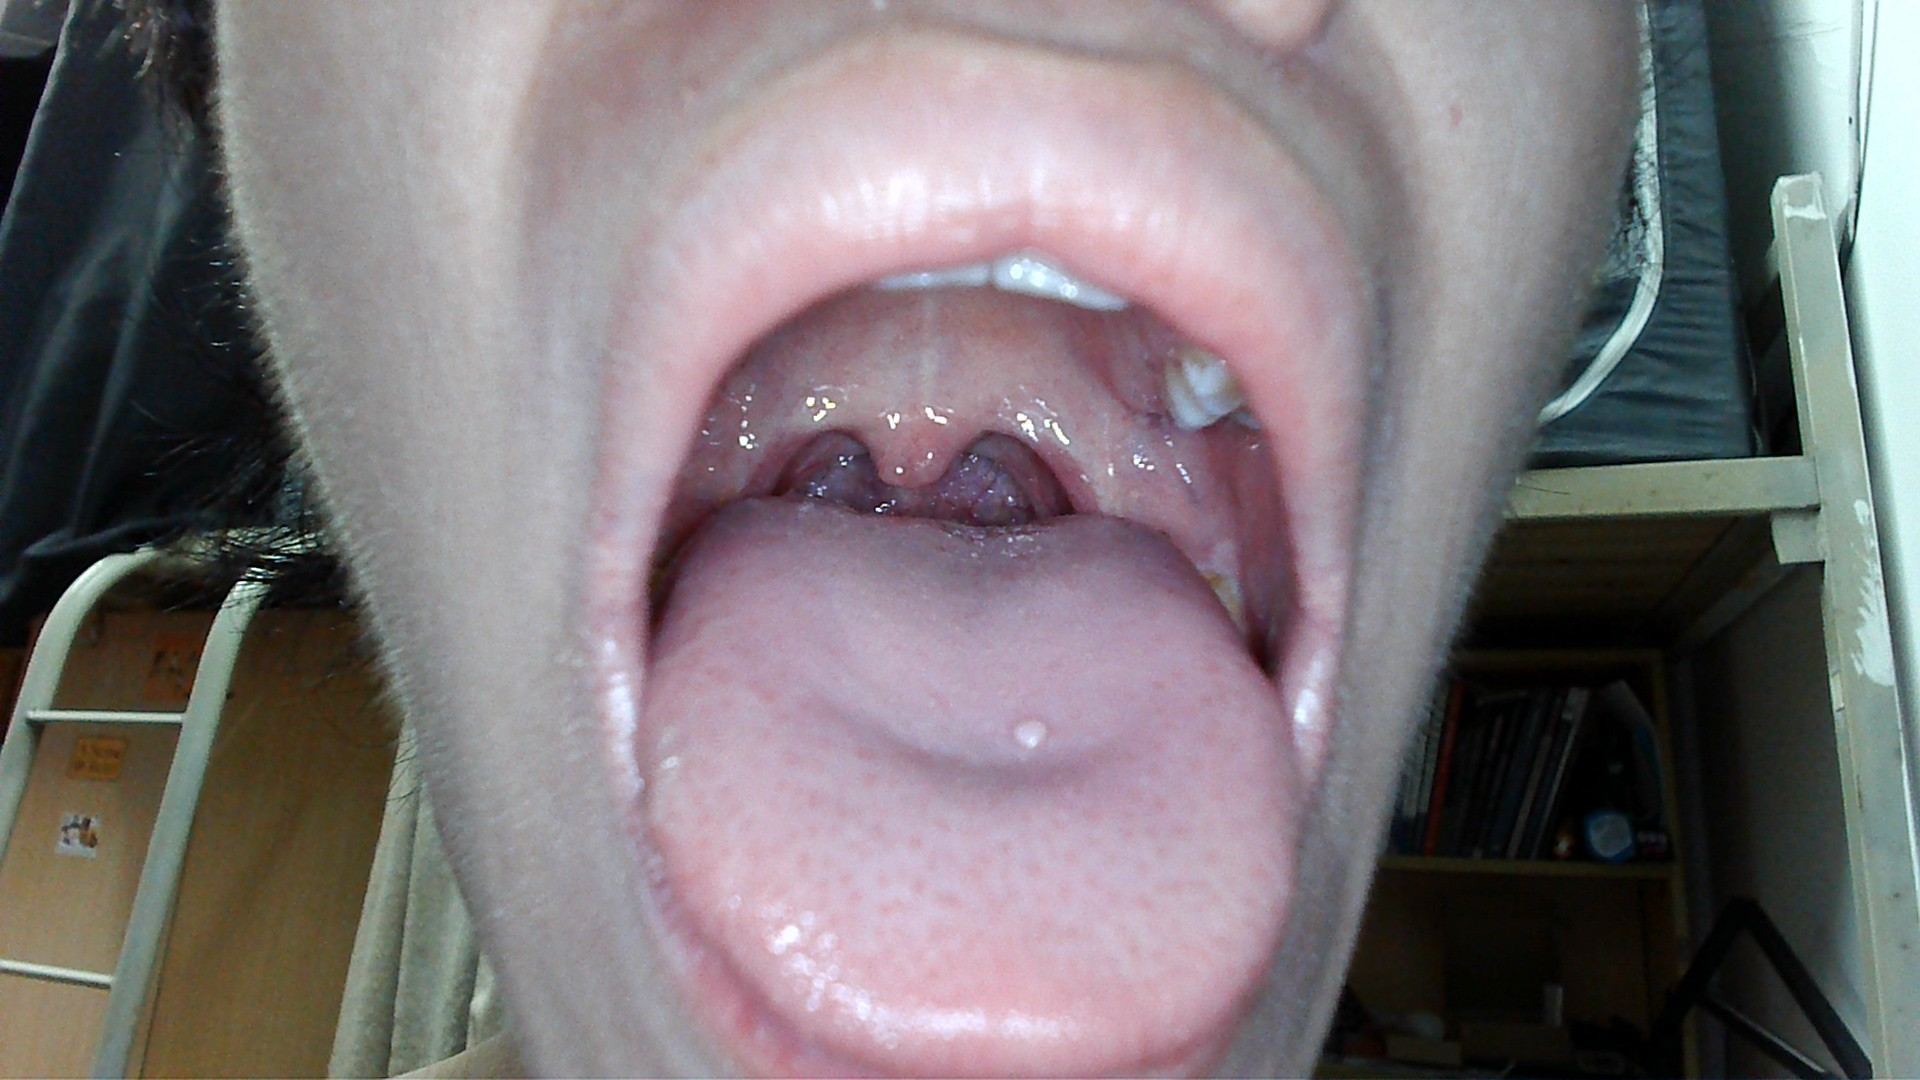throat: (1030, 404, 1110, 516), (746, 400, 818, 500)
